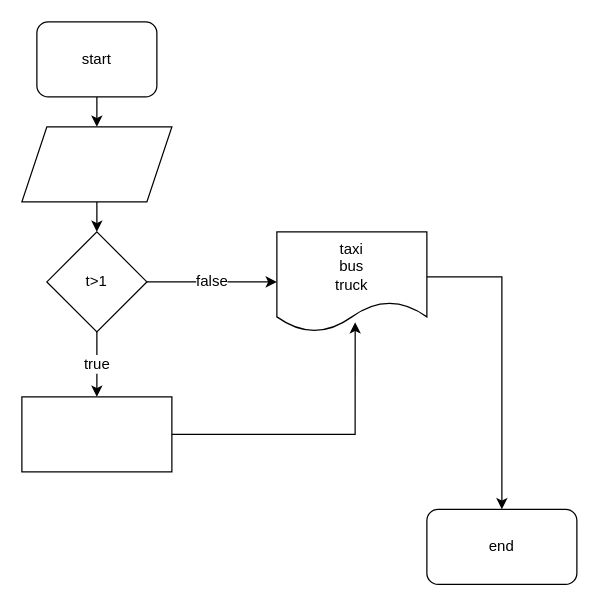
This 599x606 diagram has some shape labels left out. Each missing label, with the centre of its shape:
"Ta B Tr Taxi=5 Bus=6 Truck=6.5 t=time" belongs at [96,164].
"taxi+=5*1.2*(t-1) bus+=6*1.215*(t-1) truck+=6.5*1.25*(t-1)" belongs at [96,434].
